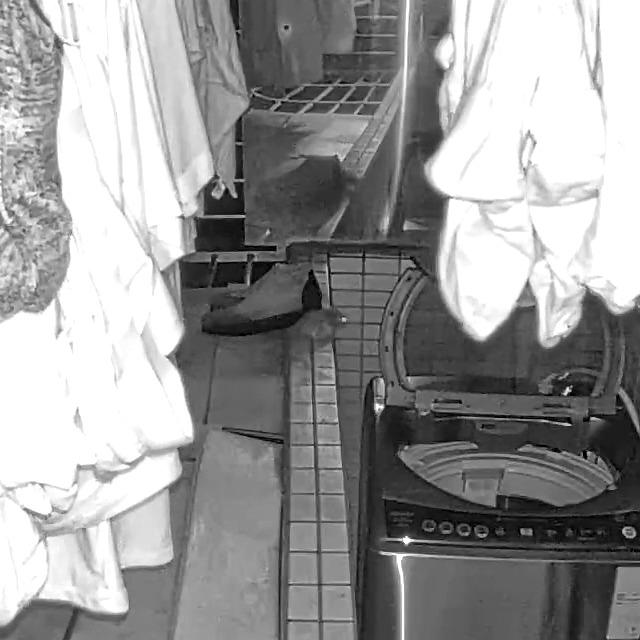rat: (281, 306, 350, 378)
